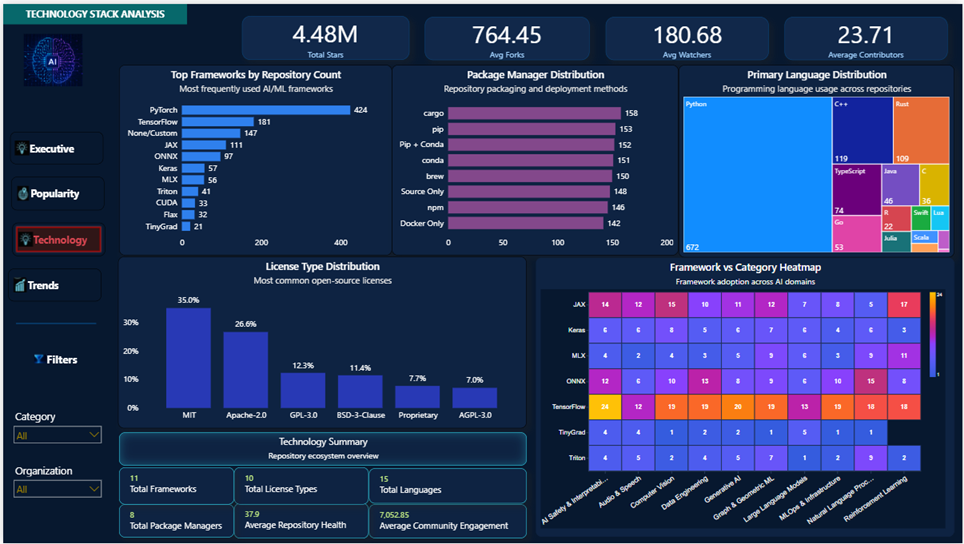

The dashboard page shown, as its layout file describes it:
{"tool":"powerbi","page":{"name":"03. Technology","canvas":[1920,1080],"ordinal":2},"visuals":[{"type":"textbox","box":[0,0,367.9,41.1],"z":0},{"type":"actionButton","box":[13.1,256.1,186.1,64.9],"z":0},{"type":"card","fields":{"Values":["My Measures.Total Stars"]},"box":[477.8,23.5,335.2,87.7],"z":1000,"group":"g1"},{"type":"image","box":[25.3,59.7,148.4,105],"z":1000},{"type":"actionButton","box":[15.4,345.8,186.1,67.1],"z":1000},{"type":"group","id":"g1","title":"Group 2","box":[477.8,23.5,1413.3,88.7],"z":2000},{"type":"card","fields":{"Values":["My Measures.Average Forks"]},"box":[844.8,25.6,329.4,86.2],"z":2000,"group":"g1"},{"type":"actionButton","box":[17.7,437.5,186.1,67.1],"z":2000},{"type":"card","fields":{"Values":["My Measures.Average Watchers"]},"box":[1205.9,25.3,326.5,86.2],"z":3000,"group":"g1"},{"type":"actionButton","box":[10.8,529.3,186.1,65.8],"z":3000},{"type":"card","fields":{"Values":["My Measures.Average Contributors"]},"box":[1564.1,25,326.5,86.2],"z":4000,"group":"g1"},{"type":"shape","box":[26,627.6,160.1,23.8],"z":4000},{"type":"actionButton","box":[10.8,675.2,190.4,69.3],"z":5000},{"type":"slicer","title":"Category","fields":{"Values":["Repositoties.category"]},"box":[15.1,811.6,186.1,90.9],"z":6000},{"type":"slicer","title":"Organization","fields":{"Values":["Repositoties.organization"]},"box":[15.1,919.8,186.1,71.4],"z":7000},{"type":"clusteredBarChart","title":"Top Frameworks by Repository Count","fields":{"Category":["Repositories.framework_dependency"],"Y":["CountNonNull(Repositories.repo_id)"]},"box":[231.6,121.2,546.5,381.8],"z":9000},{"type":"clusteredBarChart","title":"Package Manager Distribution","fields":{"Category":["Repositories.Package Manager Display"],"Y":["CountNonNull(Repositories.repo_id)"]},"box":[778.2,121.2,573.7,381.8],"z":10000},{"type":"treemap","title":"Primary Language Distribution","fields":{"Group":["Repositories.primary_language"],"Values":["CountNonNull(Repositories.repo_id)"]},"box":[1351.8,121.2,551.9,385.5],"z":11000},{"type":"clusteredColumnChart","title":"License Type Distribution","fields":{"Category":["Repositories.license_type"],"Y":["CountNonNull(Repositories.repo_id)"]},"box":[230.6,505.8,817.4,343.9],"z":12000},{"type":"group","id":"g2","title":"Group 3","box":[231.6,857.8,816.2,211.7],"z":13000},{"type":"deneb7E15AEF80B9E4D4F8E12924291ECE89A","title":"Framework vs Category Heatmap","fields":{"dataset":["Repositories.framework_dependency","Repositories.category","Repositories.repo_id"]},"box":[1065.9,508.5,837.9,559.2],"z":14000},{"type":"multiRowCard","title":"Technology Summary","fields":{"Values":["My Measures.Average Community Engagement"]},"box":[731.8,1002.4,316,68.4],"z":14000,"group":"g2"},{"type":"multiRowCard","title":"Technology Summary","fields":{"Values":["My Measures.Average Repository Health"]},"box":[461.8,1000.4,270,70.3],"z":15000,"group":"g2"},{"type":"multiRowCard","title":"Technology Summary","fields":{"Values":["My Measures.Total License Types"]},"box":[461.8,928.1,270,74.3],"z":16000,"group":"g2"},{"type":"multiRowCard","title":"Technology Summary","fields":{"Values":["My Measures.Total Package Managers"]},"box":[231.6,1002.4,230.2,66.4],"z":17000,"group":"g2"},{"type":"multiRowCard","title":"Technology Summary","fields":{"Values":["My Measures.Total Languages"]},"box":[731.8,930.1,316,70.3],"z":18000,"group":"g2"},{"type":"multiRowCard","title":"Technology Summary","fields":{"Values":["My Measures.Total Frameworks"]},"box":[231.6,928.1,230.2,74.3],"z":19000,"group":"g2"},{"type":"textbox","title":"Technology Summary","box":[231.6,857.8,816.2,66.4],"z":20000,"group":"g2"}]}

Visuals, with their boxes in screenshot pixels (x1, y1, x2, y2), scaled from the page's 1920x1080 canvas onto the 964x544 screenshot:
textbox: 0/0/185/21
actionButton: 7/129/100/162
card - My Measures.Total Stars: 240/12/408/56
image: 13/30/87/83
actionButton: 8/174/101/208
"Group 2" group: 240/12/949/57
card - My Measures.Average Forks: 424/13/590/56
actionButton: 9/220/102/254
card - My Measures.Average Watchers: 605/13/769/56
actionButton: 5/267/99/300
card - My Measures.Average Contributors: 785/13/949/56
shape: 13/316/93/328
actionButton: 5/340/101/375
"Category" slicer: 8/409/101/455
"Organization" slicer: 8/463/101/499
"Top Frameworks by Repository Count" clusteredBarChart: 116/61/391/253
"Package Manager Distribution" clusteredBarChart: 391/61/679/253
"Primary Language Distribution" treemap: 679/61/956/255
"License Type Distribution" clusteredColumnChart: 116/255/526/428
"Group 3" group: 116/432/526/539
"Framework vs Category Heatmap" deneb7E15AEF80B9E4D4F8E12924291ECE89A: 535/256/956/538
"Technology Summary" multiRowCard: 367/505/526/539
"Technology Summary" multiRowCard: 232/504/367/539
"Technology Summary" multiRowCard: 232/467/367/505
"Technology Summary" multiRowCard: 116/505/232/538
"Technology Summary" multiRowCard: 367/468/526/504
"Technology Summary" multiRowCard: 116/467/232/505
"Technology Summary" textbox: 116/432/526/466
